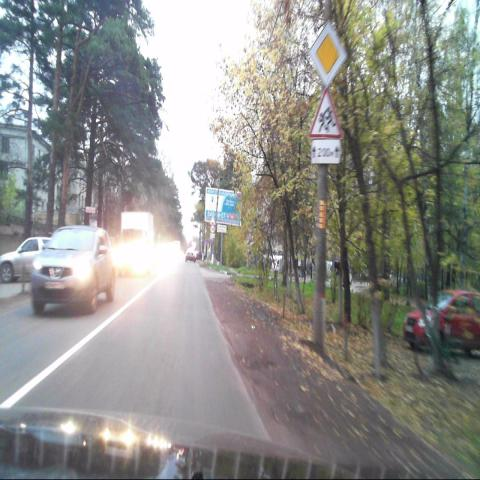8_2_1: (311, 139, 342, 163)
